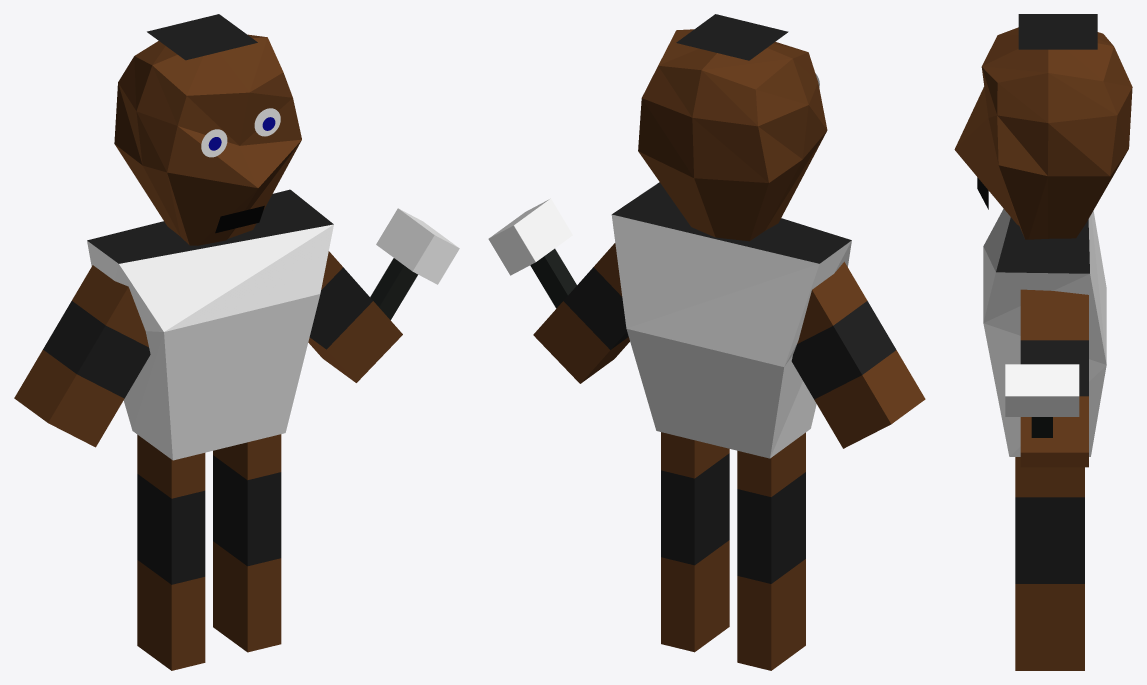
The model's file is slave1.obj.
The picture shows the model from 3 angles, left to right: view 1: azimuth 30°, elevation 25°; view 2: azimuth 150°, elevation 25°; view 3: azimuth 270°, elevation 25°; orthographic projection.
Visible parts, largest first — view 1: Cube.001, Cube, Cube.004, Cube.005, Cube.003, Cube.002, Cube.008, Plane.002, Cube.007, Plane; view 2: Cube.001, Cube, Cube.004, Cube.005, Cube.003, Cube.002, Cube.008, Plane.002, Cube.007; view 3: Cube, Cube.005, Cube.001, Cube.002, Cube.008, Plane.002, Cube.007.
Boxes of the visible parts, x1,y1,x2,y2 form: Cube.001: (87,189,333,460); Cube: (114,34,301,245); Cube.004: (137,434,205,670); Cube.005: (213,434,281,652); Cube.003: (14,265,150,447); Cube.002: (308,251,402,382); Cube.008: (376,208,459,284); Plane.002: (147,14,257,60); Cube.007: (370,258,417,320); Plane: (215,205,264,233); Cube.001: (611,182,851,458); Cube: (638,29,827,241); Cube.004: (737,432,805,670); Cube.005: (661,432,729,652); Cube.003: (791,261,925,448); Cube.002: (533,243,629,383); Cube.008: (488,198,572,275); Plane.002: (676,14,788,60); Cube.007: (530,248,576,308); Cube: (954,27,1132,239); Cube.005: (1015,457,1084,670); Cube.001: (983,208,1106,456); Cube.002: (1020,289,1088,467); Cube.008: (1005,364,1079,416); Plane.002: (1018,14,1097,49); Cube.007: (1031,417,1052,437).
Bounding box in the file's own units: 4.16 × 5.96 × 1.57.
